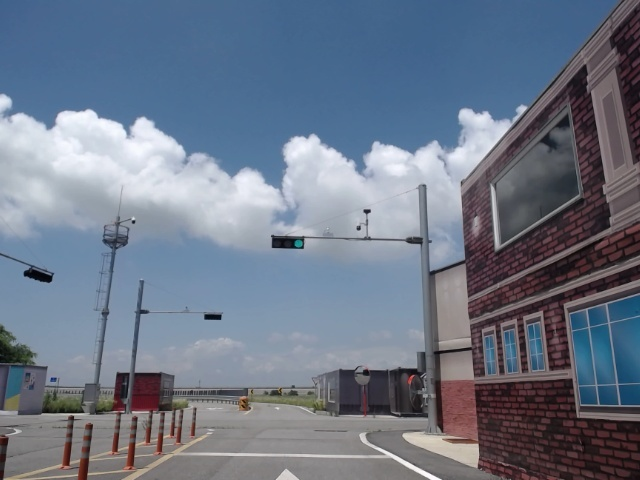green_3: (272, 239, 304, 249)
